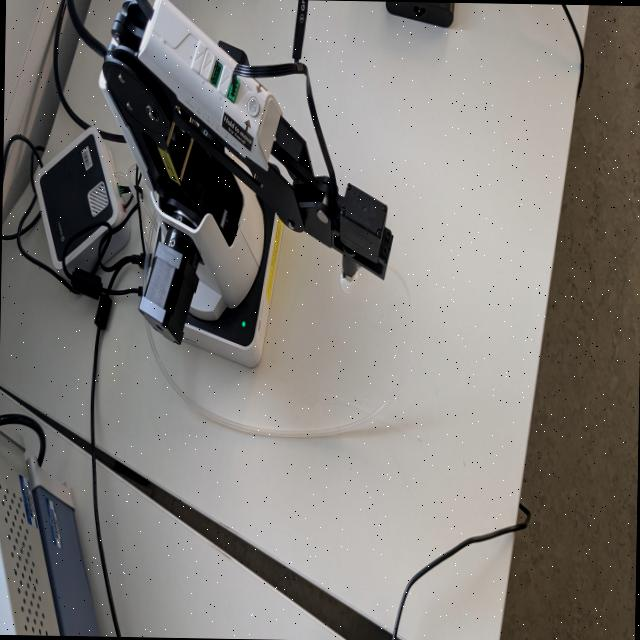Robot-end-effector-HF8z: (334, 178, 396, 296)
